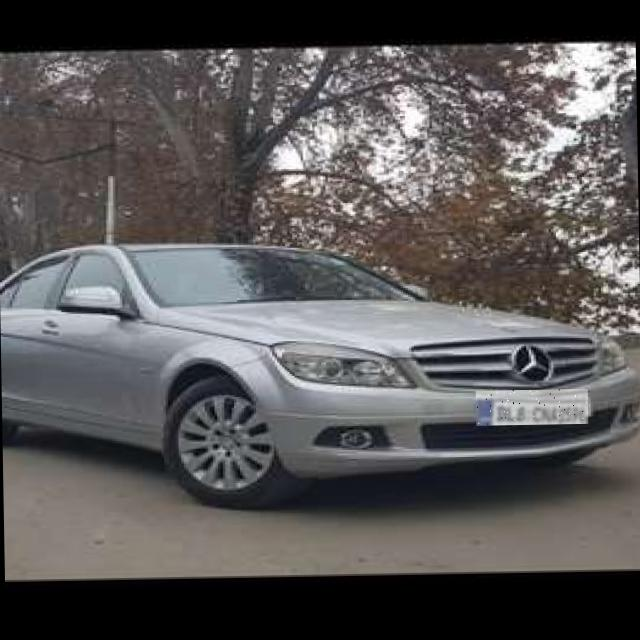Plate: (476, 390, 589, 427)
